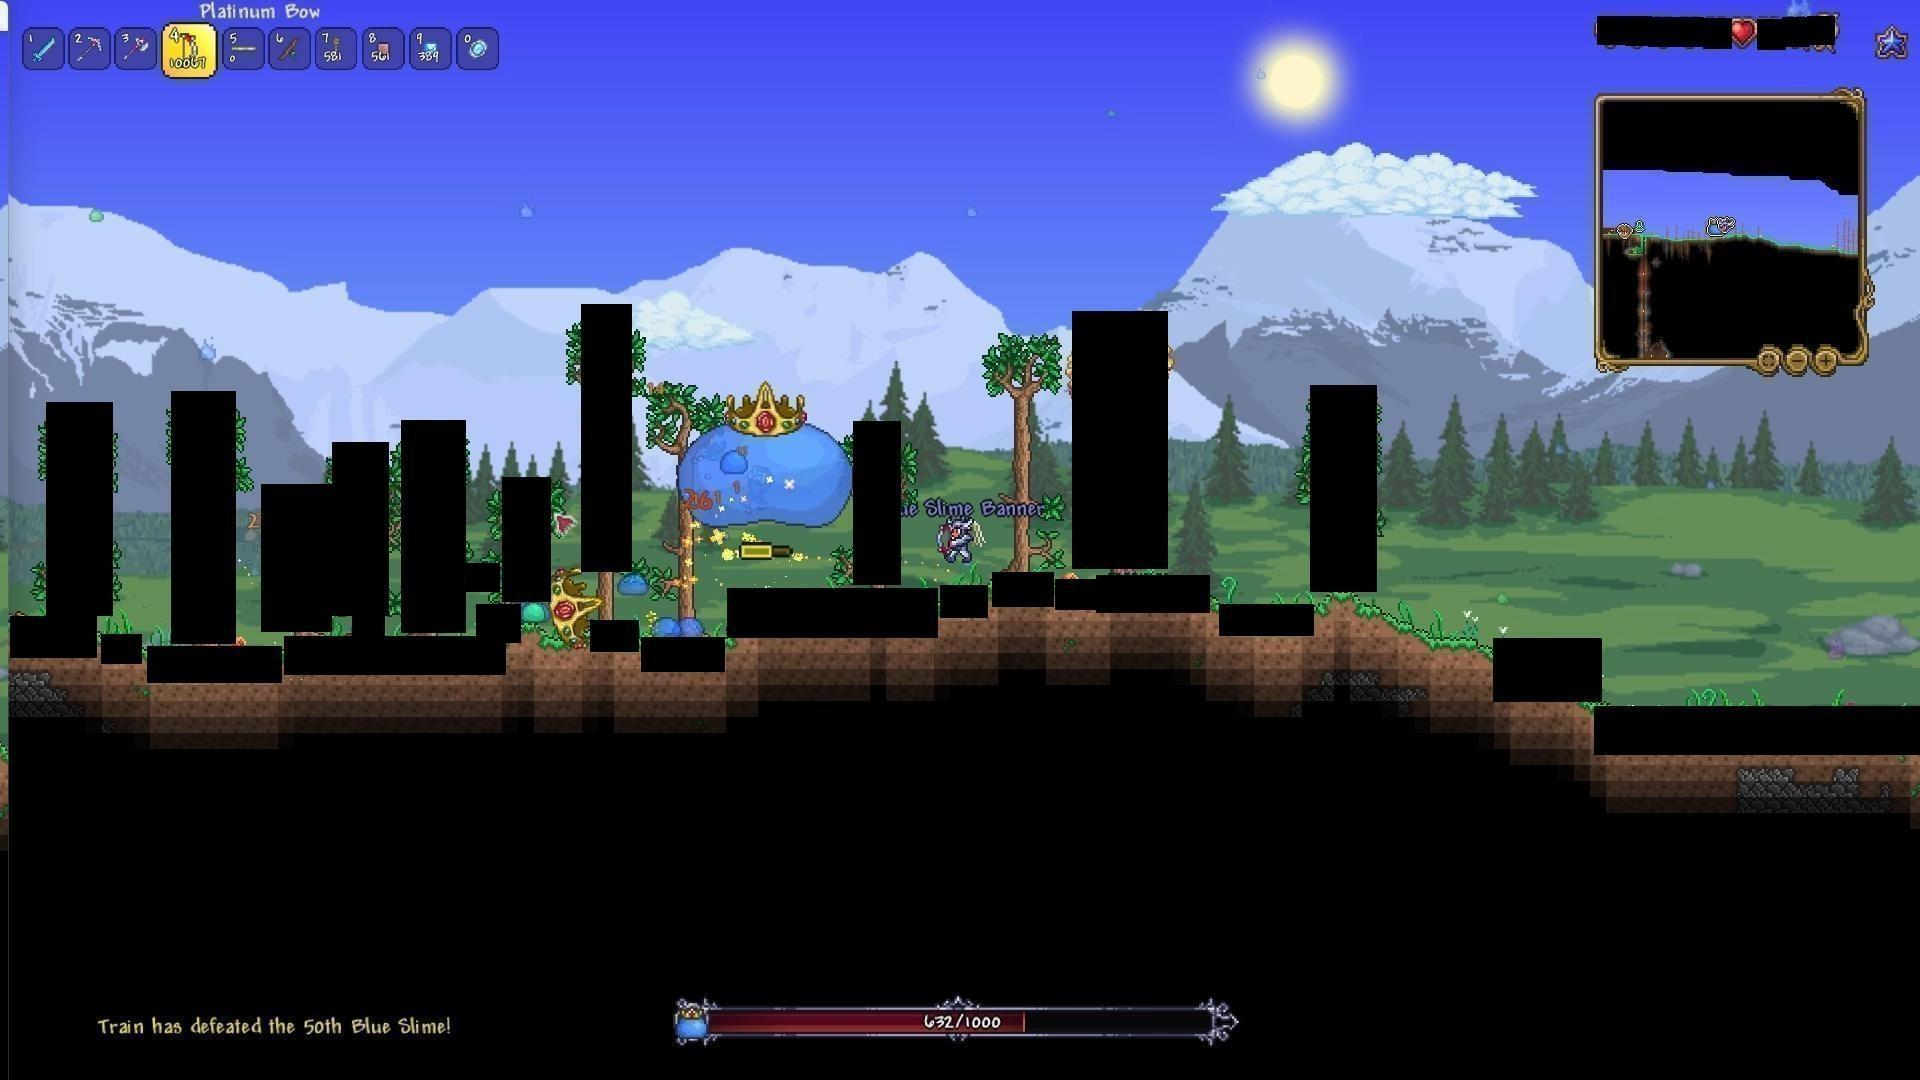dirt: (1354, 599, 1420, 642), (1427, 634, 1491, 673), (1309, 592, 1356, 625)
heart: (1730, 18, 1759, 49)
slime: (615, 570, 655, 599), (679, 615, 712, 644), (650, 615, 679, 640), (520, 600, 547, 625)
tree: (989, 323, 1048, 563)
